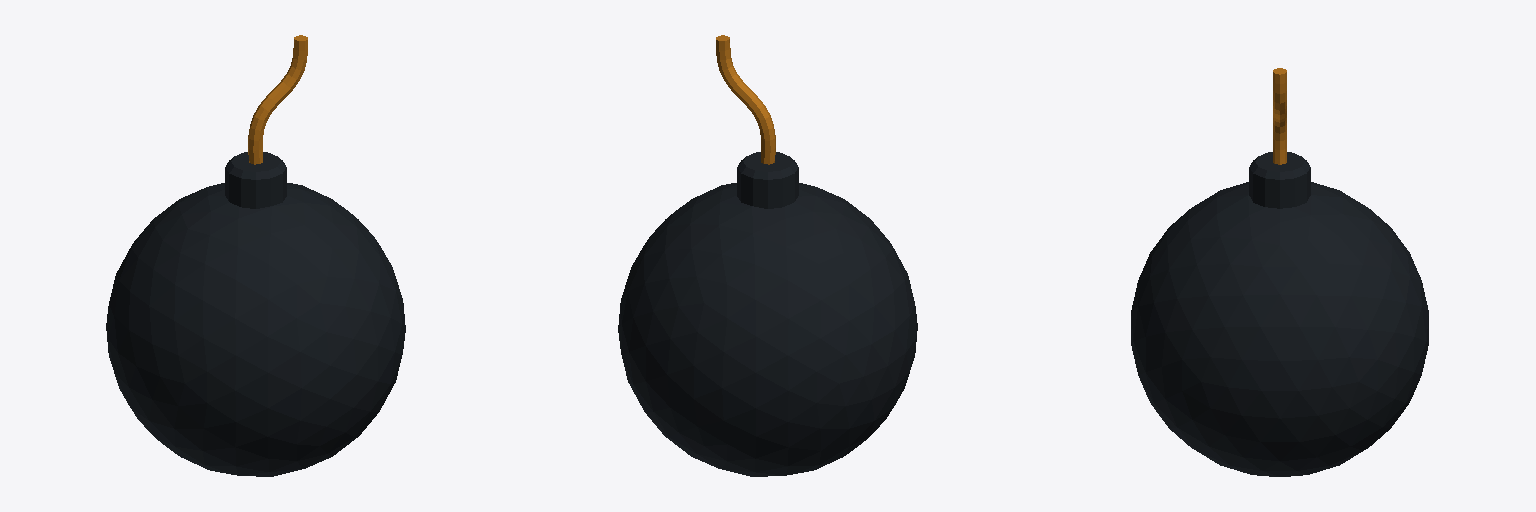
File: Bomb.obj
3 renders of one model, left to right at view 1: azimuth 30°, elevation 25°; view 2: azimuth 150°, elevation 25°; view 3: azimuth 270°, elevation 25°, orthographic.
Visible parts, largest first — view 1: Sphere, Cylinder, Fuse; view 2: Sphere, Cylinder, Fuse; view 3: Sphere, Cylinder, Fuse.
Part boxes in pixels (bbox=[...]): Sphere: bbox=[106, 183, 405, 476]; Cylinder: bbox=[225, 152, 286, 208]; Fuse: bbox=[248, 39, 307, 164]; Sphere: bbox=[618, 183, 917, 476]; Cylinder: bbox=[737, 152, 798, 208]; Fuse: bbox=[716, 39, 775, 164]; Sphere: bbox=[1131, 182, 1428, 476]; Cylinder: bbox=[1249, 152, 1310, 208]; Fuse: bbox=[1273, 72, 1286, 164].
Size of the model in its own units: 152 by 233 by 152.